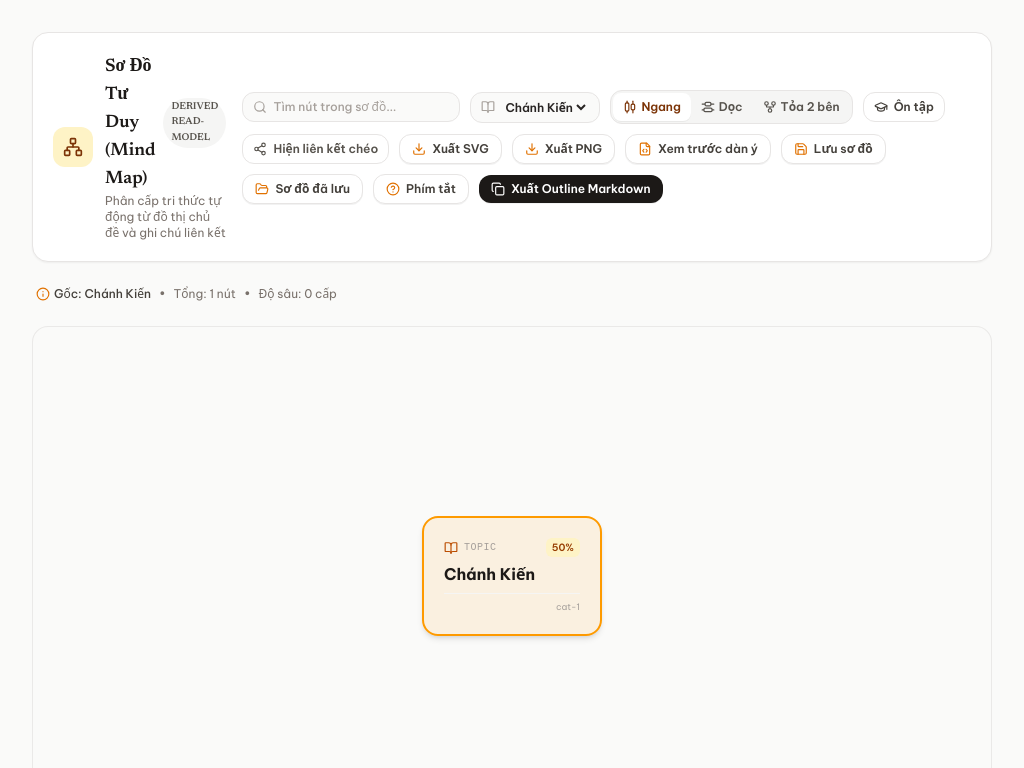
Scenario: Phase I2: Mind Map Preview-Only Sandbox Modal › Scenario 2: Open and close Preview Modal from MindMapView
# Open modal
Click the button with test id "btn-open-import-preview". click: (698, 149)
box: top-left (625, 134), bottom-right (771, 164)
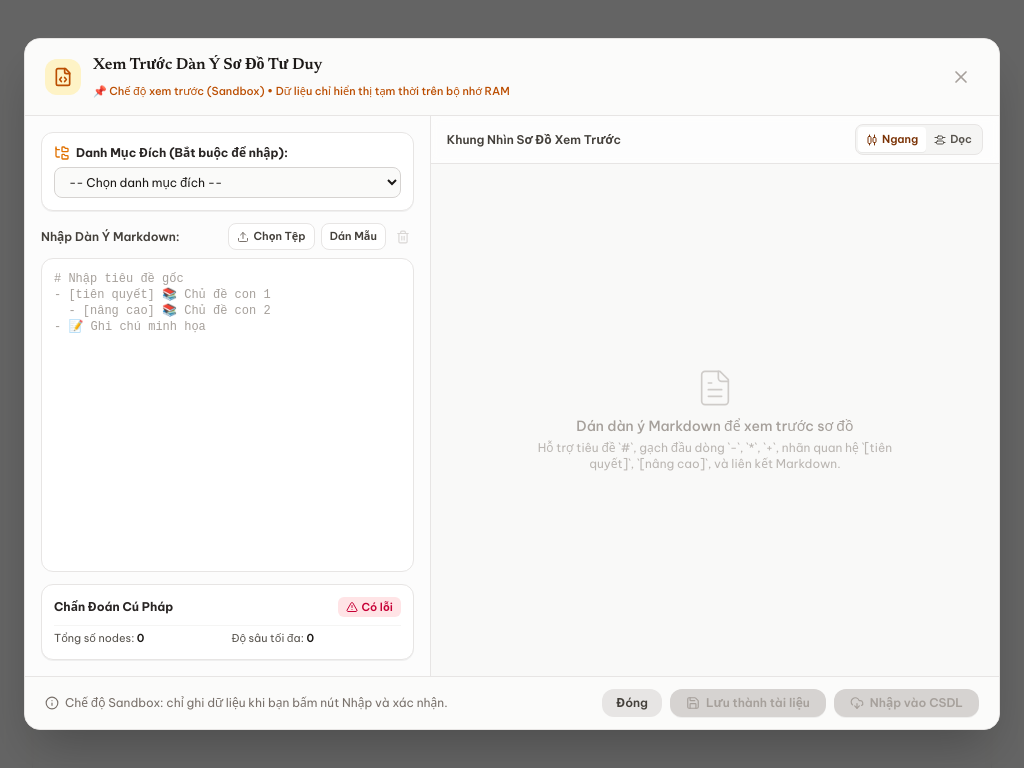
Now the dialog is shown
Now the heading "Xem Trước Dàn Ý Sơ Đồ Tư Duy" is shown, box top-left (93, 57), bottom-right (322, 73)
# Close modal via footer button
Click the button with test id "btn-close-import-preview-footer". click: (632, 703)
box: top-left (602, 689), bottom-right (662, 717)
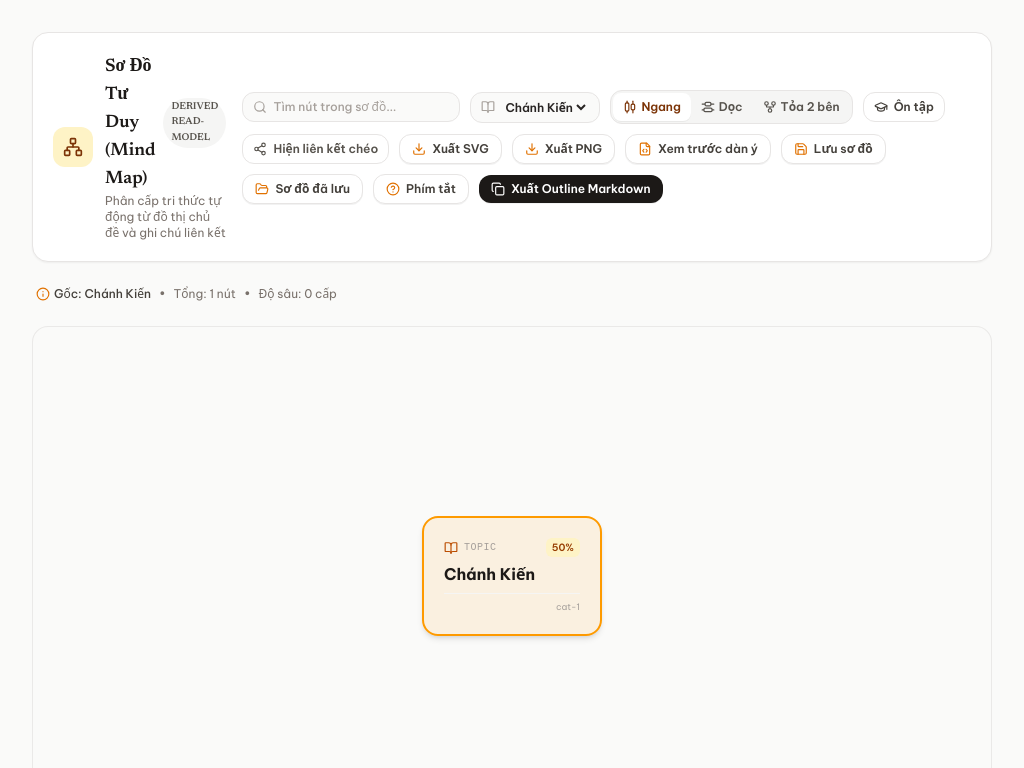
Now the dialog is gone
